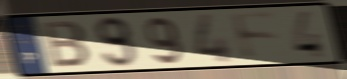4: (192, 12, 236, 65), (288, 9, 331, 60)
9: (93, 15, 140, 70), (144, 15, 185, 66)
B: (39, 20, 94, 69)
F: (228, 11, 282, 64)
